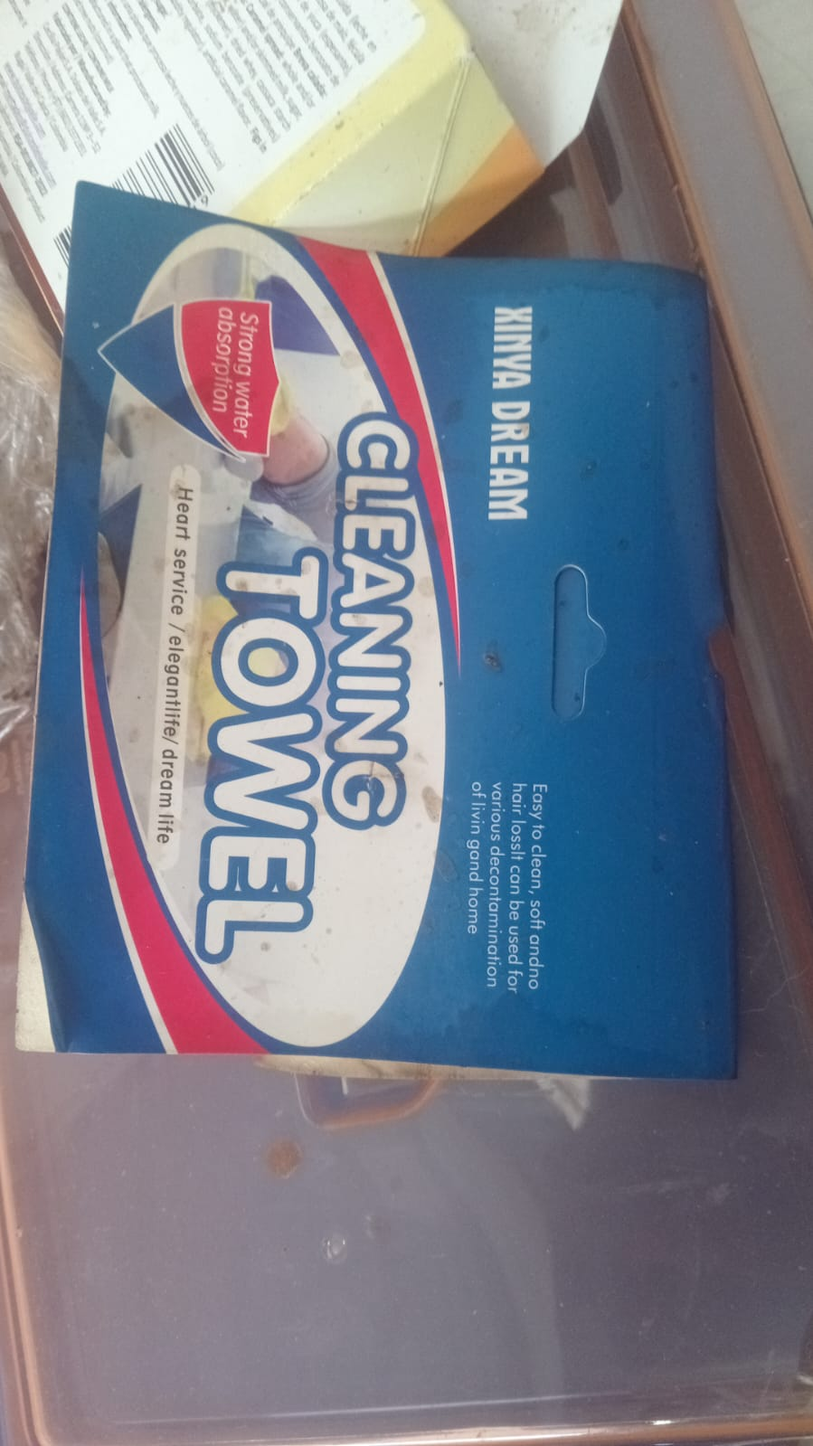Carton: (4, 192, 740, 1075), (0, 6, 549, 333)
